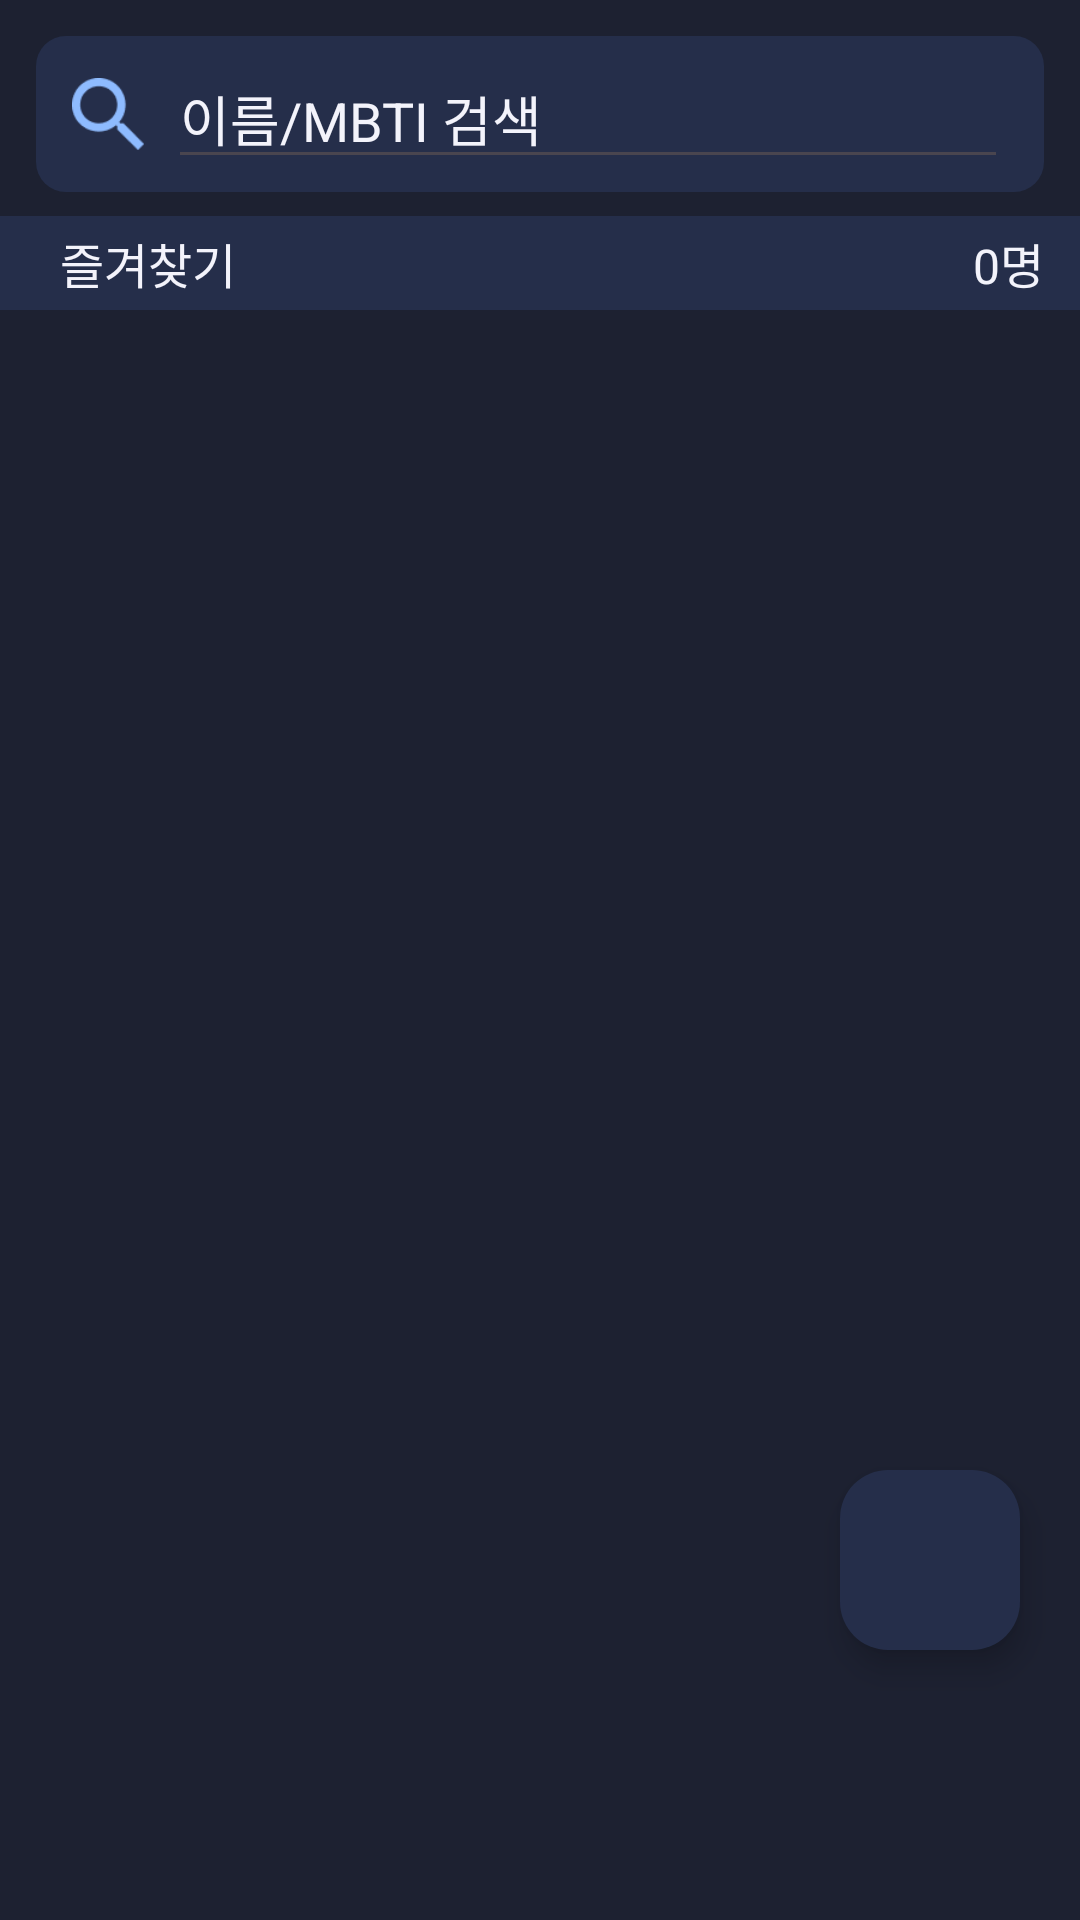

Named icons in this screenshot (1080x1920) and their bounding boxes, (x1, y1, x2, y2):
search: (72, 78, 144, 150)
